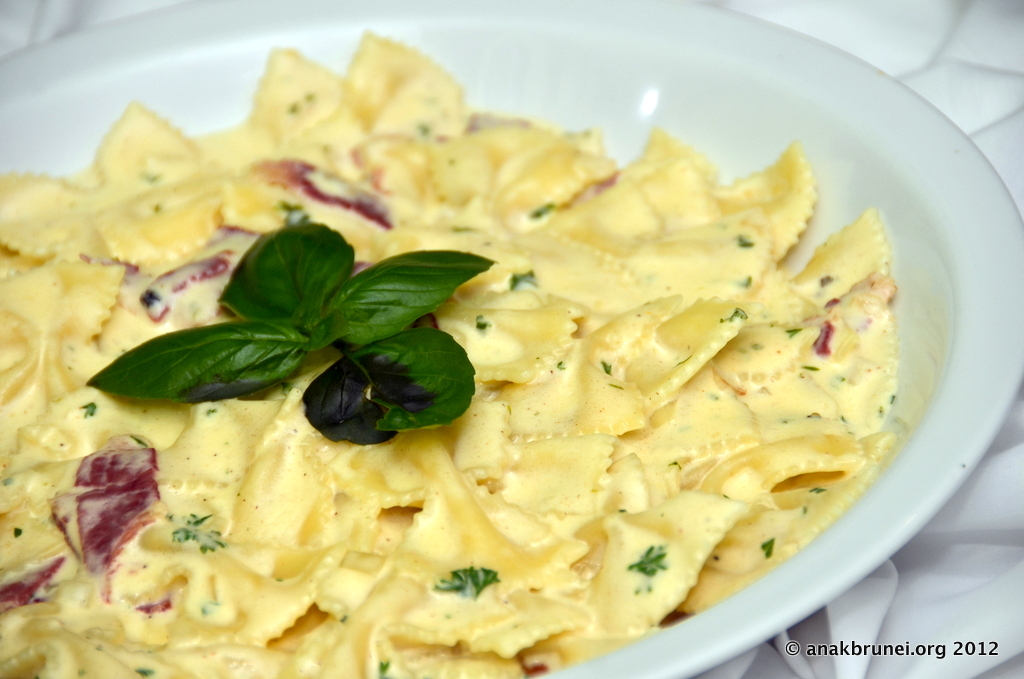pasta: (0, 25, 891, 678)
